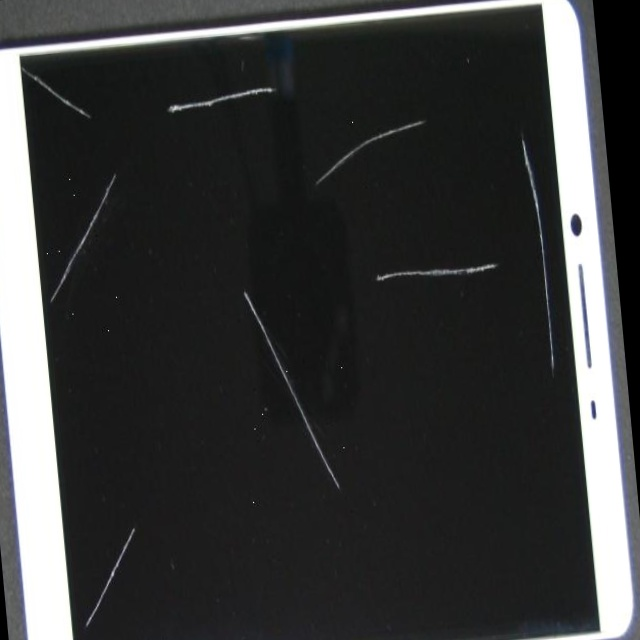scratch: (41, 0, 428, 578), (126, 40, 477, 237), (55, 14, 269, 192), (66, 10, 155, 301)
